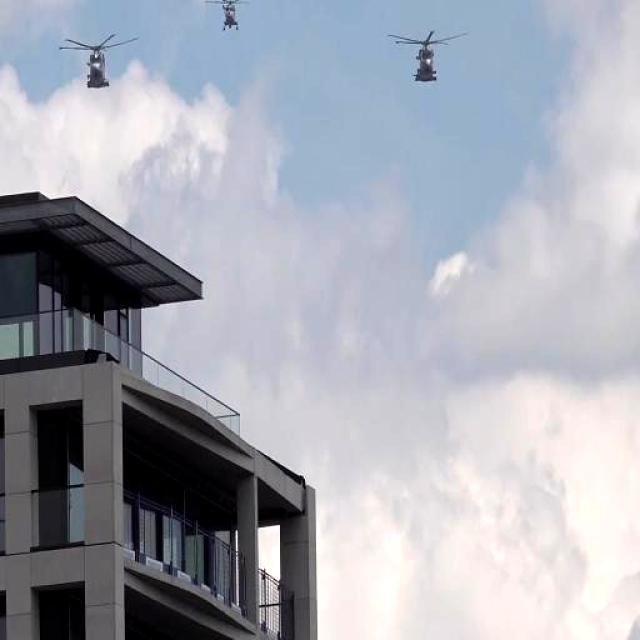drone: (59, 26, 139, 90), (390, 21, 469, 85), (210, 0, 255, 35)
